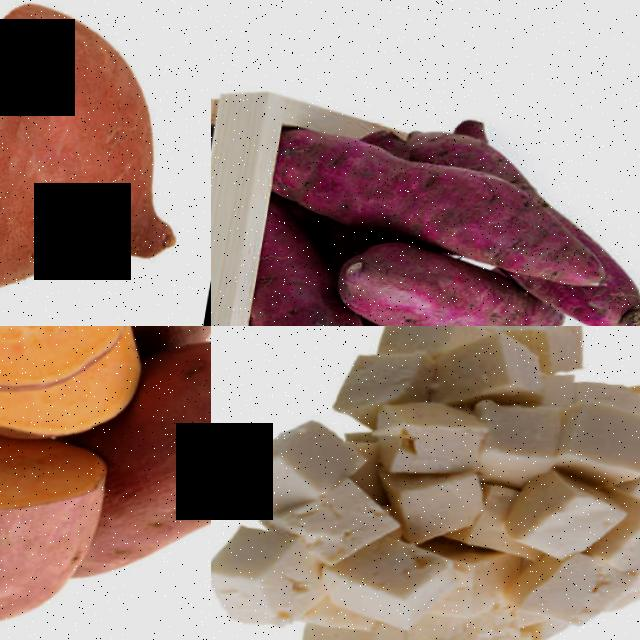sweet potato: (0, 0, 211, 326), (397, 152, 622, 305), (108, 326, 211, 598), (0, 407, 118, 640), (333, 237, 539, 326), (0, 326, 144, 415), (529, 277, 640, 326)
tofu: (211, 515, 335, 640), (322, 537, 463, 638), (235, 411, 368, 511), (503, 471, 632, 571), (505, 550, 640, 640), (376, 397, 494, 486), (429, 327, 549, 414), (377, 467, 493, 552), (559, 400, 640, 491), (349, 343, 437, 417), (534, 326, 595, 376)
